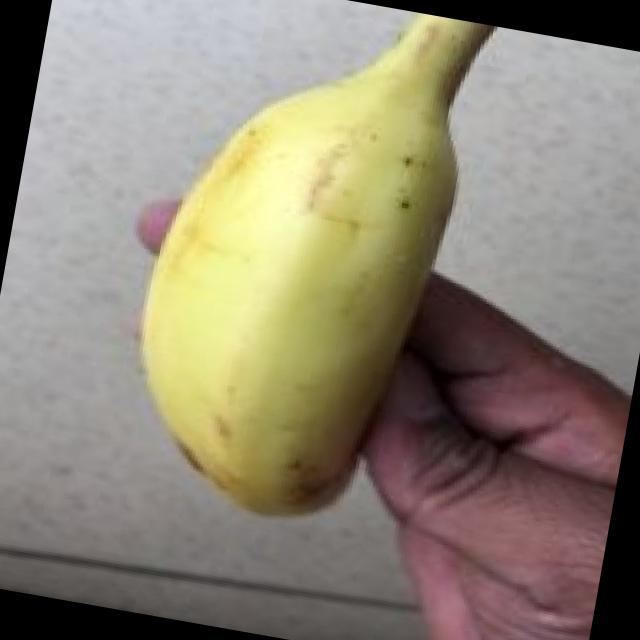banana: (80, 98, 466, 640)
